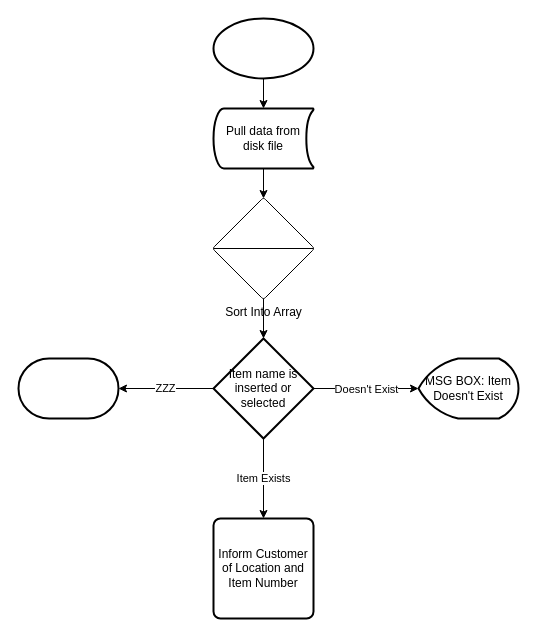
Image size: 536x636. Some labels were removed from this diagram. The shapes that lost their labels are listed below. From the top down, each one's centre as x and y in pixels, then its label:
the point at 263,48: START
the point at 68,388: Stop Program
